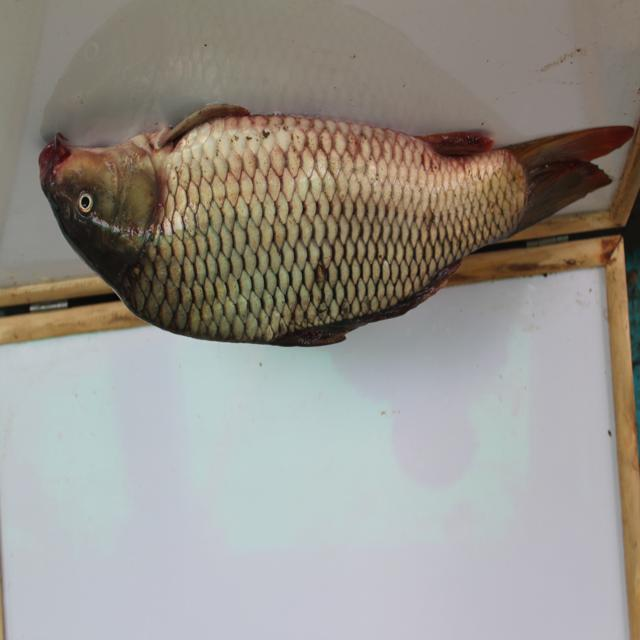CommonCarp: (27, 105, 631, 358)
